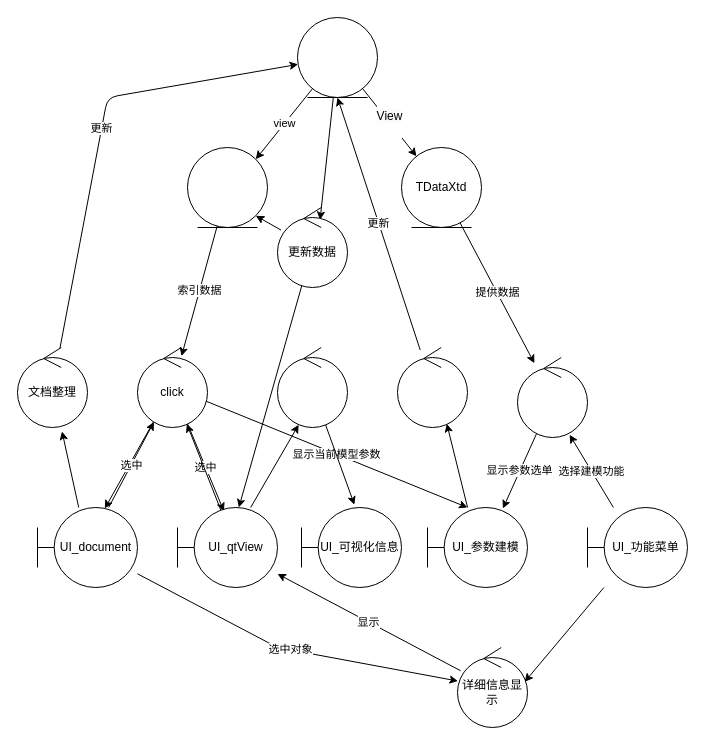
This 705x745 diagram has some shape labels left out. Here are the shapes that lost their labels. From the top down, the centre of each, then its label:
(337,57): TDocStd_Document
(227,187): DisplayedShape
(312,387): 鼠标事件
(432,387): 提交建模/参数
(552,397): 建模
